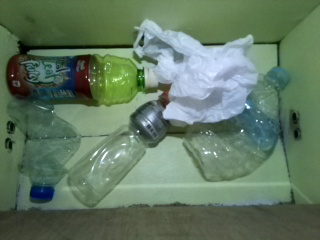bottle: (66, 91, 173, 208), (6, 53, 159, 106)
damaged-bottle: (182, 68, 288, 182), (7, 98, 81, 202)
plastic-bag: (134, 19, 253, 130)
